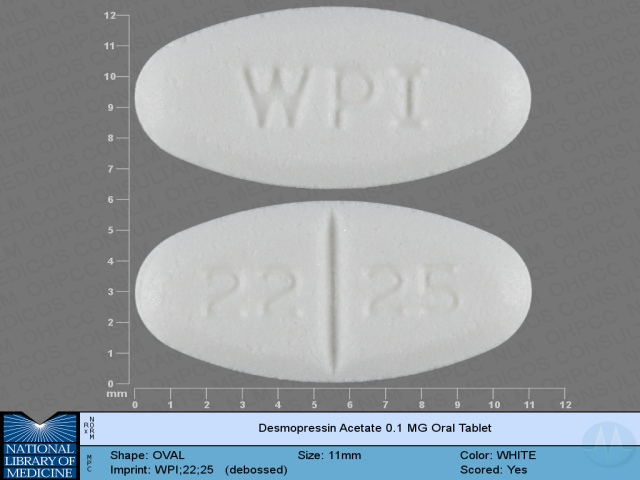2: (201, 264, 246, 325), (259, 261, 300, 322), (367, 259, 407, 315)
5: (421, 261, 463, 322)
I: (393, 65, 429, 131)
P: (327, 61, 377, 136)
W: (237, 59, 315, 134)
|: (322, 206, 346, 378)
